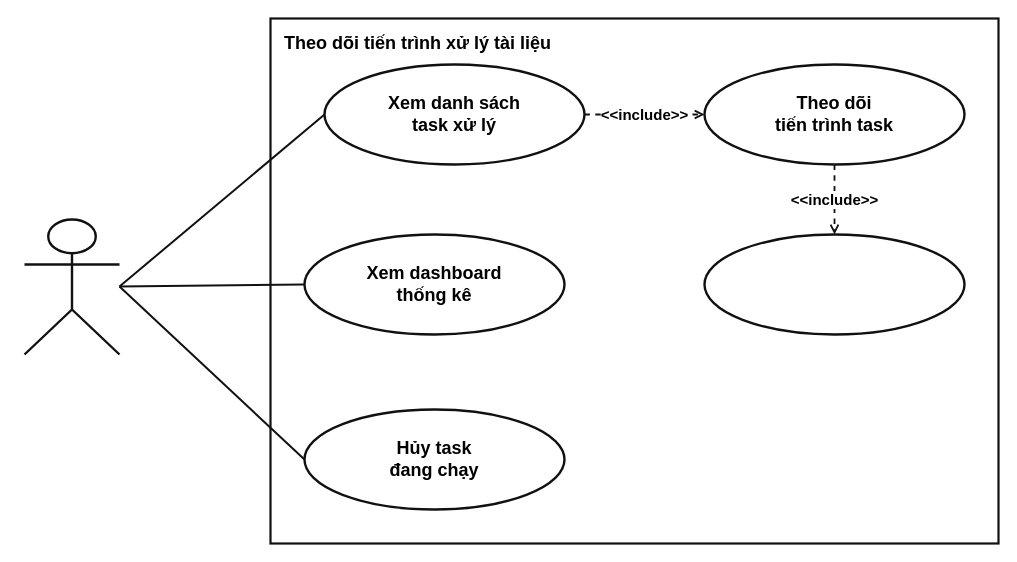
This 1017x562 diagram has some shape labels left out. Here are the shapes that lost their labels. From the top down, the centre of each, then its label:
At point 71,286: "Quản trị viên".
At point 834,284: "Xem trạng thái thành công/thất bại".
